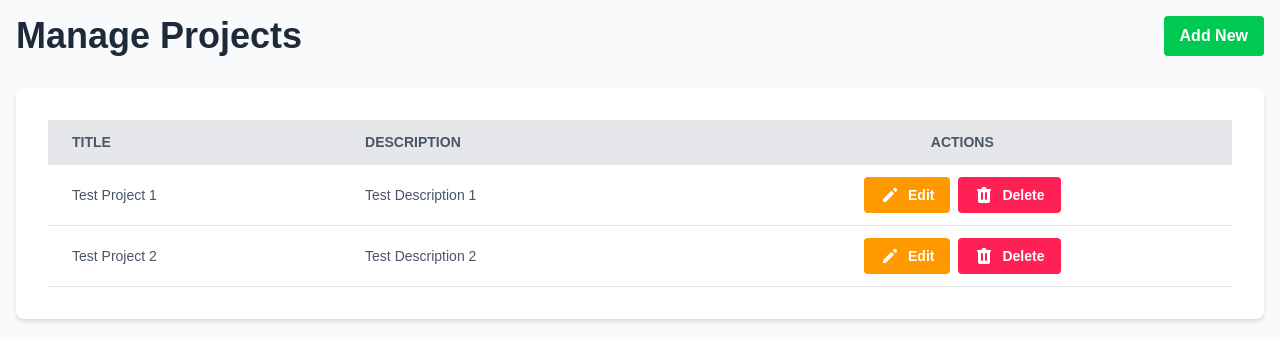
Test: ProjectsPage › deletes a project when delete is confirmed
What coordinates should you click on to do the following:
click the button "Delete" in the row of "Test Project 1"
I would click on:
 (1010, 195)
Its box is [958,177,1060,213].
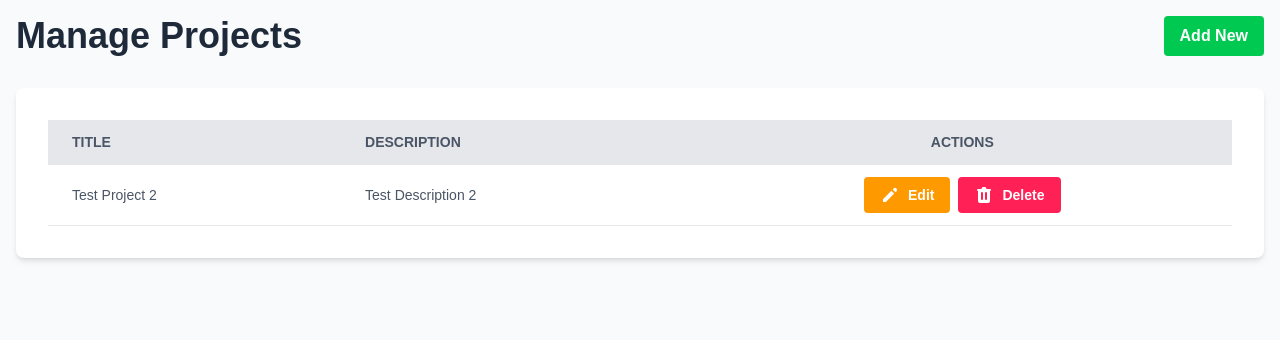
Check: the text "Test Project 1" is gone
